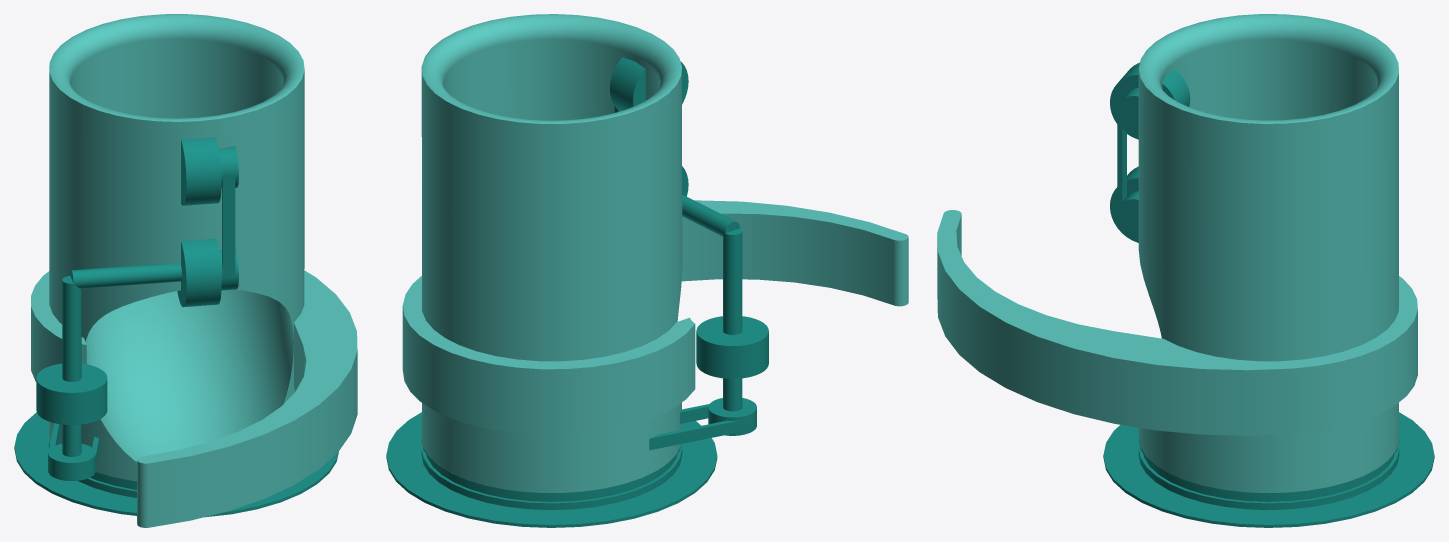
The picture shows the model from 3 angles, left to right: view 1: azimuth 30°, elevation 25°; view 2: azimuth 150°, elevation 25°; view 3: azimuth 270°, elevation 25°; orthographic projection.
Visible parts, largest first — view 1: BLOCK CAD: Serializer, Rotor, BLOCK CAD: Serializer, Powertrain; view 2: BLOCK CAD: Serializer, Rotor, BLOCK CAD: Serializer, Powertrain; view 3: BLOCK CAD: Serializer, Rotor, BLOCK CAD: Serializer, Powertrain.
Boxes of the visible parts, left/top/right/bottom form: BLOCK CAD: Serializer, Rotor: left=31, top=14, right=357, bottom=527; BLOCK CAD: Serializer, Powertrain: left=14, top=136, right=338, bottom=517; BLOCK CAD: Serializer, Rotor: left=402, top=14, right=908, bottom=492; BLOCK CAD: Serializer, Powertrain: left=386, top=57, right=768, bottom=527; BLOCK CAD: Serializer, Rotor: left=937, top=14, right=1417, bottom=492; BLOCK CAD: Serializer, Powertrain: left=1103, top=62, right=1434, bottom=527.
Size of the model in its own units: 0.2761 by 0.3014 by 0.3487.
